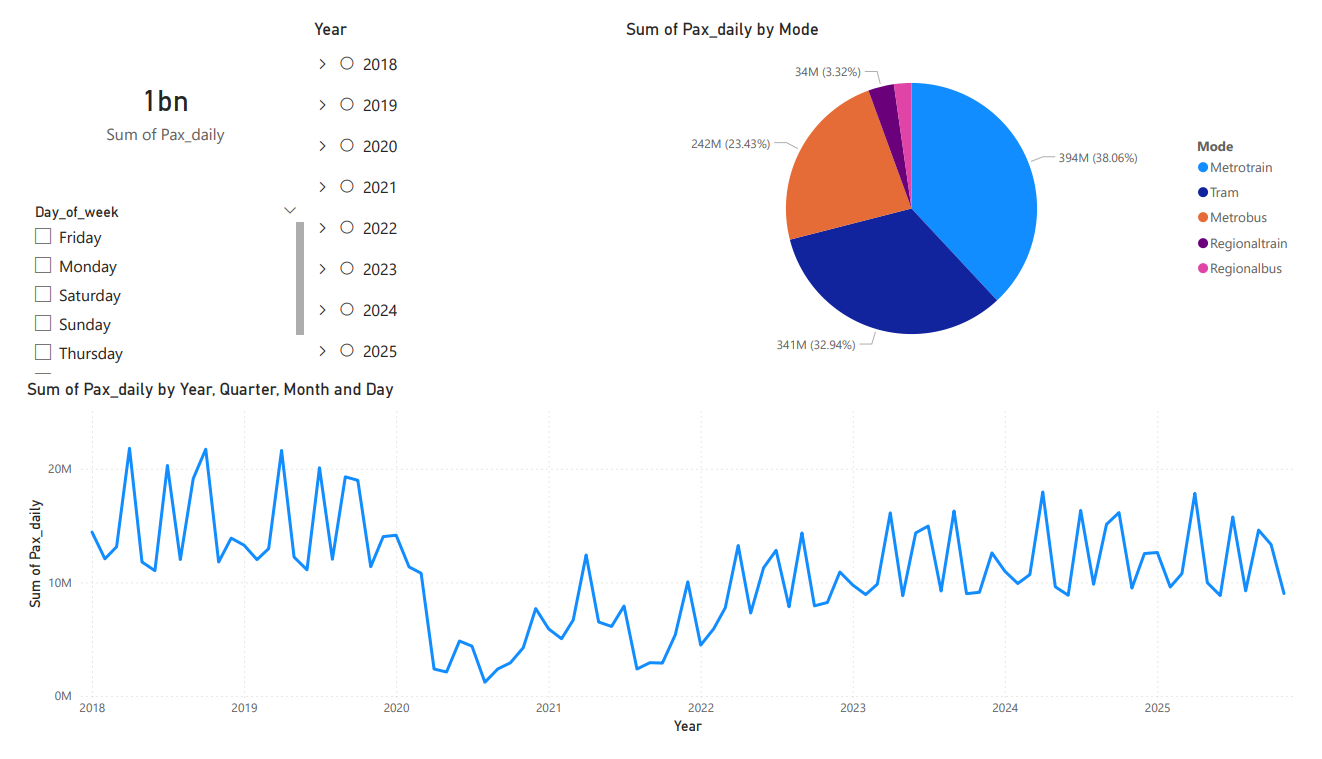

This screenshot's page, from the dashboard's own definition file:
{"tool":"powerbi","page":{"name":"Page 1","canvas":[1280,720],"ordinal":0},"visuals":[{"type":"lineChart","fields":{"Y":["Sum(patronage_clean.Pax_daily)"],"Category":["patronage_clean.MonthStart.Variation.Date Hierarchy.Year","patronage_clean.MonthStart.Variation.Date Hierarchy.Quarter","patronage_clean.MonthStart.Variation.Date Hierarchy.Month","patronage_clean.MonthStart.Variation.Date Hierarchy.Day"]},"box":[0,360,1280.5,360],"z":0},{"type":"pieChart","fields":{"Category":["DIM_Mode.Mode"],"Y":["Sum(patronage_clean.Pax_daily)"]},"box":[599.3,0,681.2,360],"z":1000},{"type":"card","fields":{"Values":["Sum(patronage_clean.Pax_daily)"]},"box":[0,0,286.7,180],"z":2000},{"type":"listSlicer","fields":{"Values":["patronage_clean.MonthStart.Variation.Date Hierarchy.Year","patronage_clean.MonthStart.Variation.Date Hierarchy.Quarter","patronage_clean.MonthStart.Variation.Date Hierarchy.Month","patronage_clean.MonthStart.Variation.Date Hierarchy.Day"]},"box":[286.7,0,312.6,360],"z":3000},{"type":"slicer","fields":{"Values":["DIM_Day_of_week.Day_of_week"]},"box":[0,180,286.7,180],"z":4000}]}

Visuals, with their boxes in screenshot pixels (x1, y1, x2, y2), scaled from the page's 1280x720 canvas onto the 1322x759 screenshot:
lineChart - Sum(patronage_clean.Pax_daily) x patronage_clean.MonthStart.Variation.Date Hierarchy.Year: 0,380,1321,758
pieChart - DIM_Mode.Mode x Sum(patronage_clean.Pax_daily): 619,0,1321,380
card - Sum(patronage_clean.Pax_daily): 0,0,296,190
listSlicer - patronage_clean.MonthStart.Variation.Date Hierarchy.Year x patronage_clean.MonthStart.Variation.Date Hierarchy.Quarter: 296,0,619,380
slicer - DIM_Day_of_week.Day_of_week: 0,190,296,380
